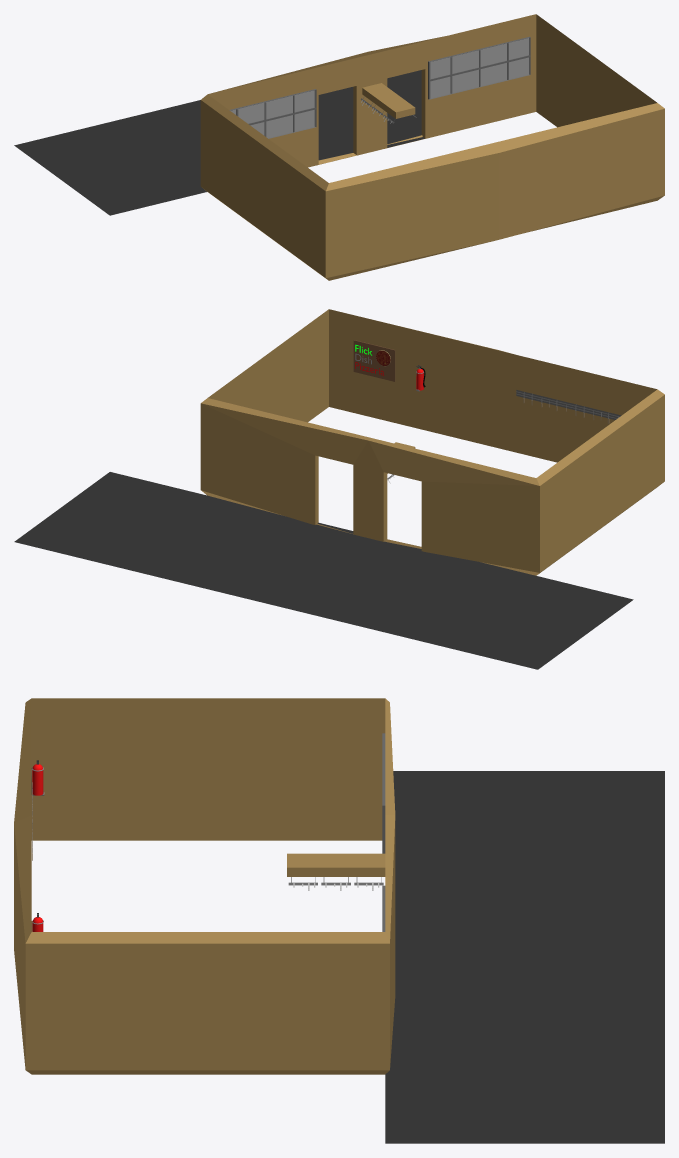
Rendered from Room.fbx.
The picture shows the model from 3 angles, top to bottom: view 1: azimuth 30°, elevation 25°; view 2: azimuth 150°, elevation 25°; view 3: azimuth 270°, elevation 25°; orthographic projection. The views are drawn at different scales.
Parts seen in each view (by area): view 1: Room; view 2: Room; view 3: Room.
Part boxes in pixels (x1,y1,x2,y2): Room: (14, 14, 664, 280); Room: (14, 309, 664, 669); Room: (14, 698, 664, 1143).
Size of the model in its own units: 5369 by 958 by 3964.
